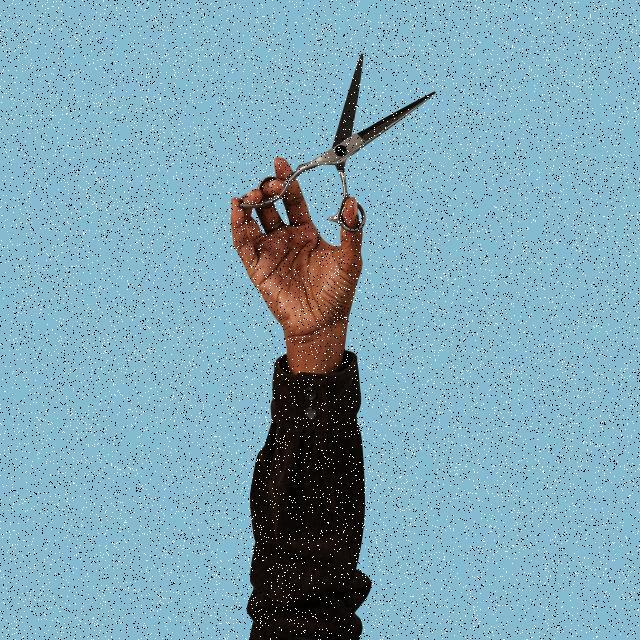scissors: (236, 51, 438, 235)
